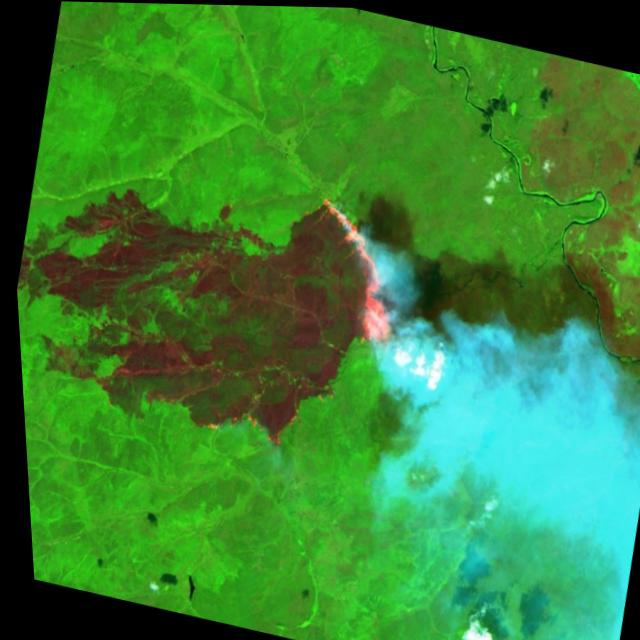fire: (284, 181, 426, 365)
